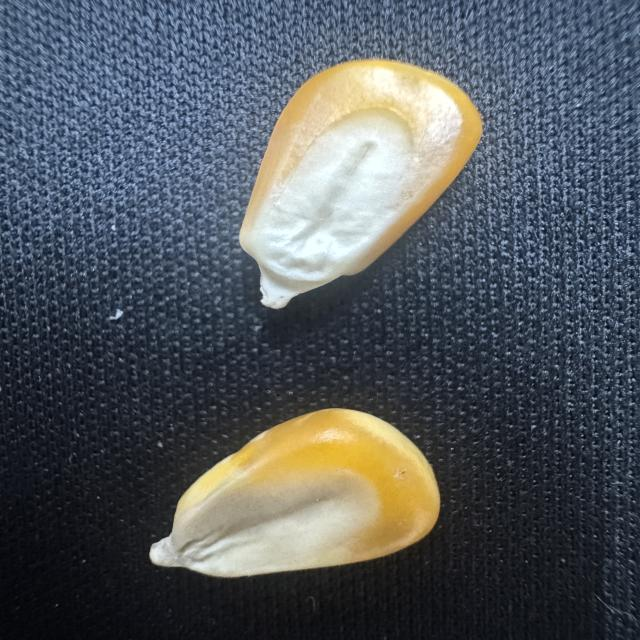Good-Seed: (221, 53, 497, 315), (144, 399, 450, 593)
